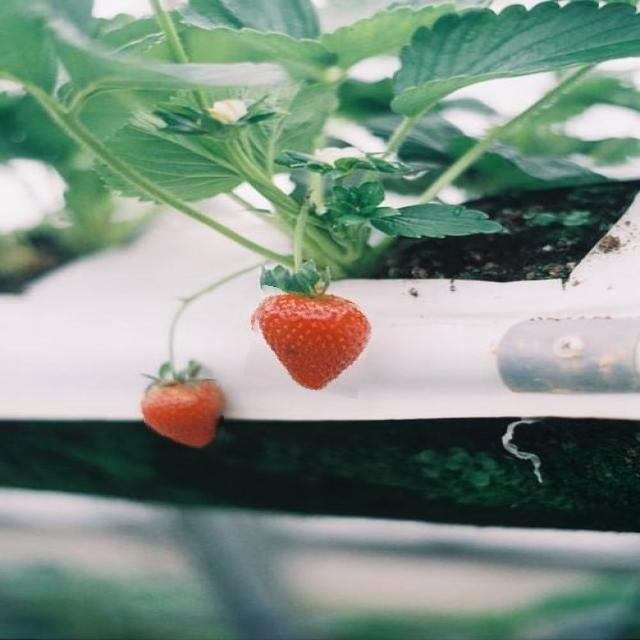strawberry: (247, 290, 372, 394), (143, 380, 225, 450)
